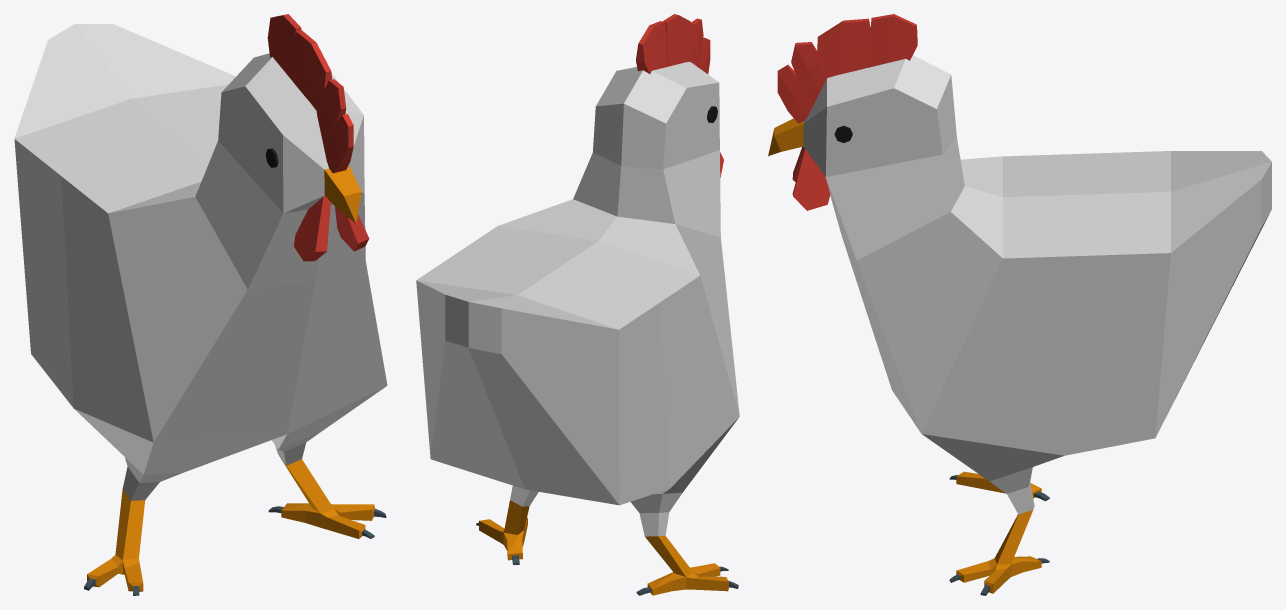
Rendered from Chicken_01.fbx.
The picture shows the model from 3 angles, left to right: view 1: azimuth 30°, elevation 25°; view 2: azimuth 150°, elevation 25°; view 3: azimuth 270°, elevation 25°; orthographic projection. The views are drawn at different scales.
Visible parts, largest first — view 1: Chicken_01; view 2: Chicken_01; view 3: Chicken_01.
Part boxes in pixels (x1,y1,x2,y2): Chicken_01: [14, 14, 387, 595]; Chicken_01: [416, 14, 739, 595]; Chicken_01: [768, 14, 1271, 595].
Size of the model in its own units: 3.98 by 7.28 by 6.44.
